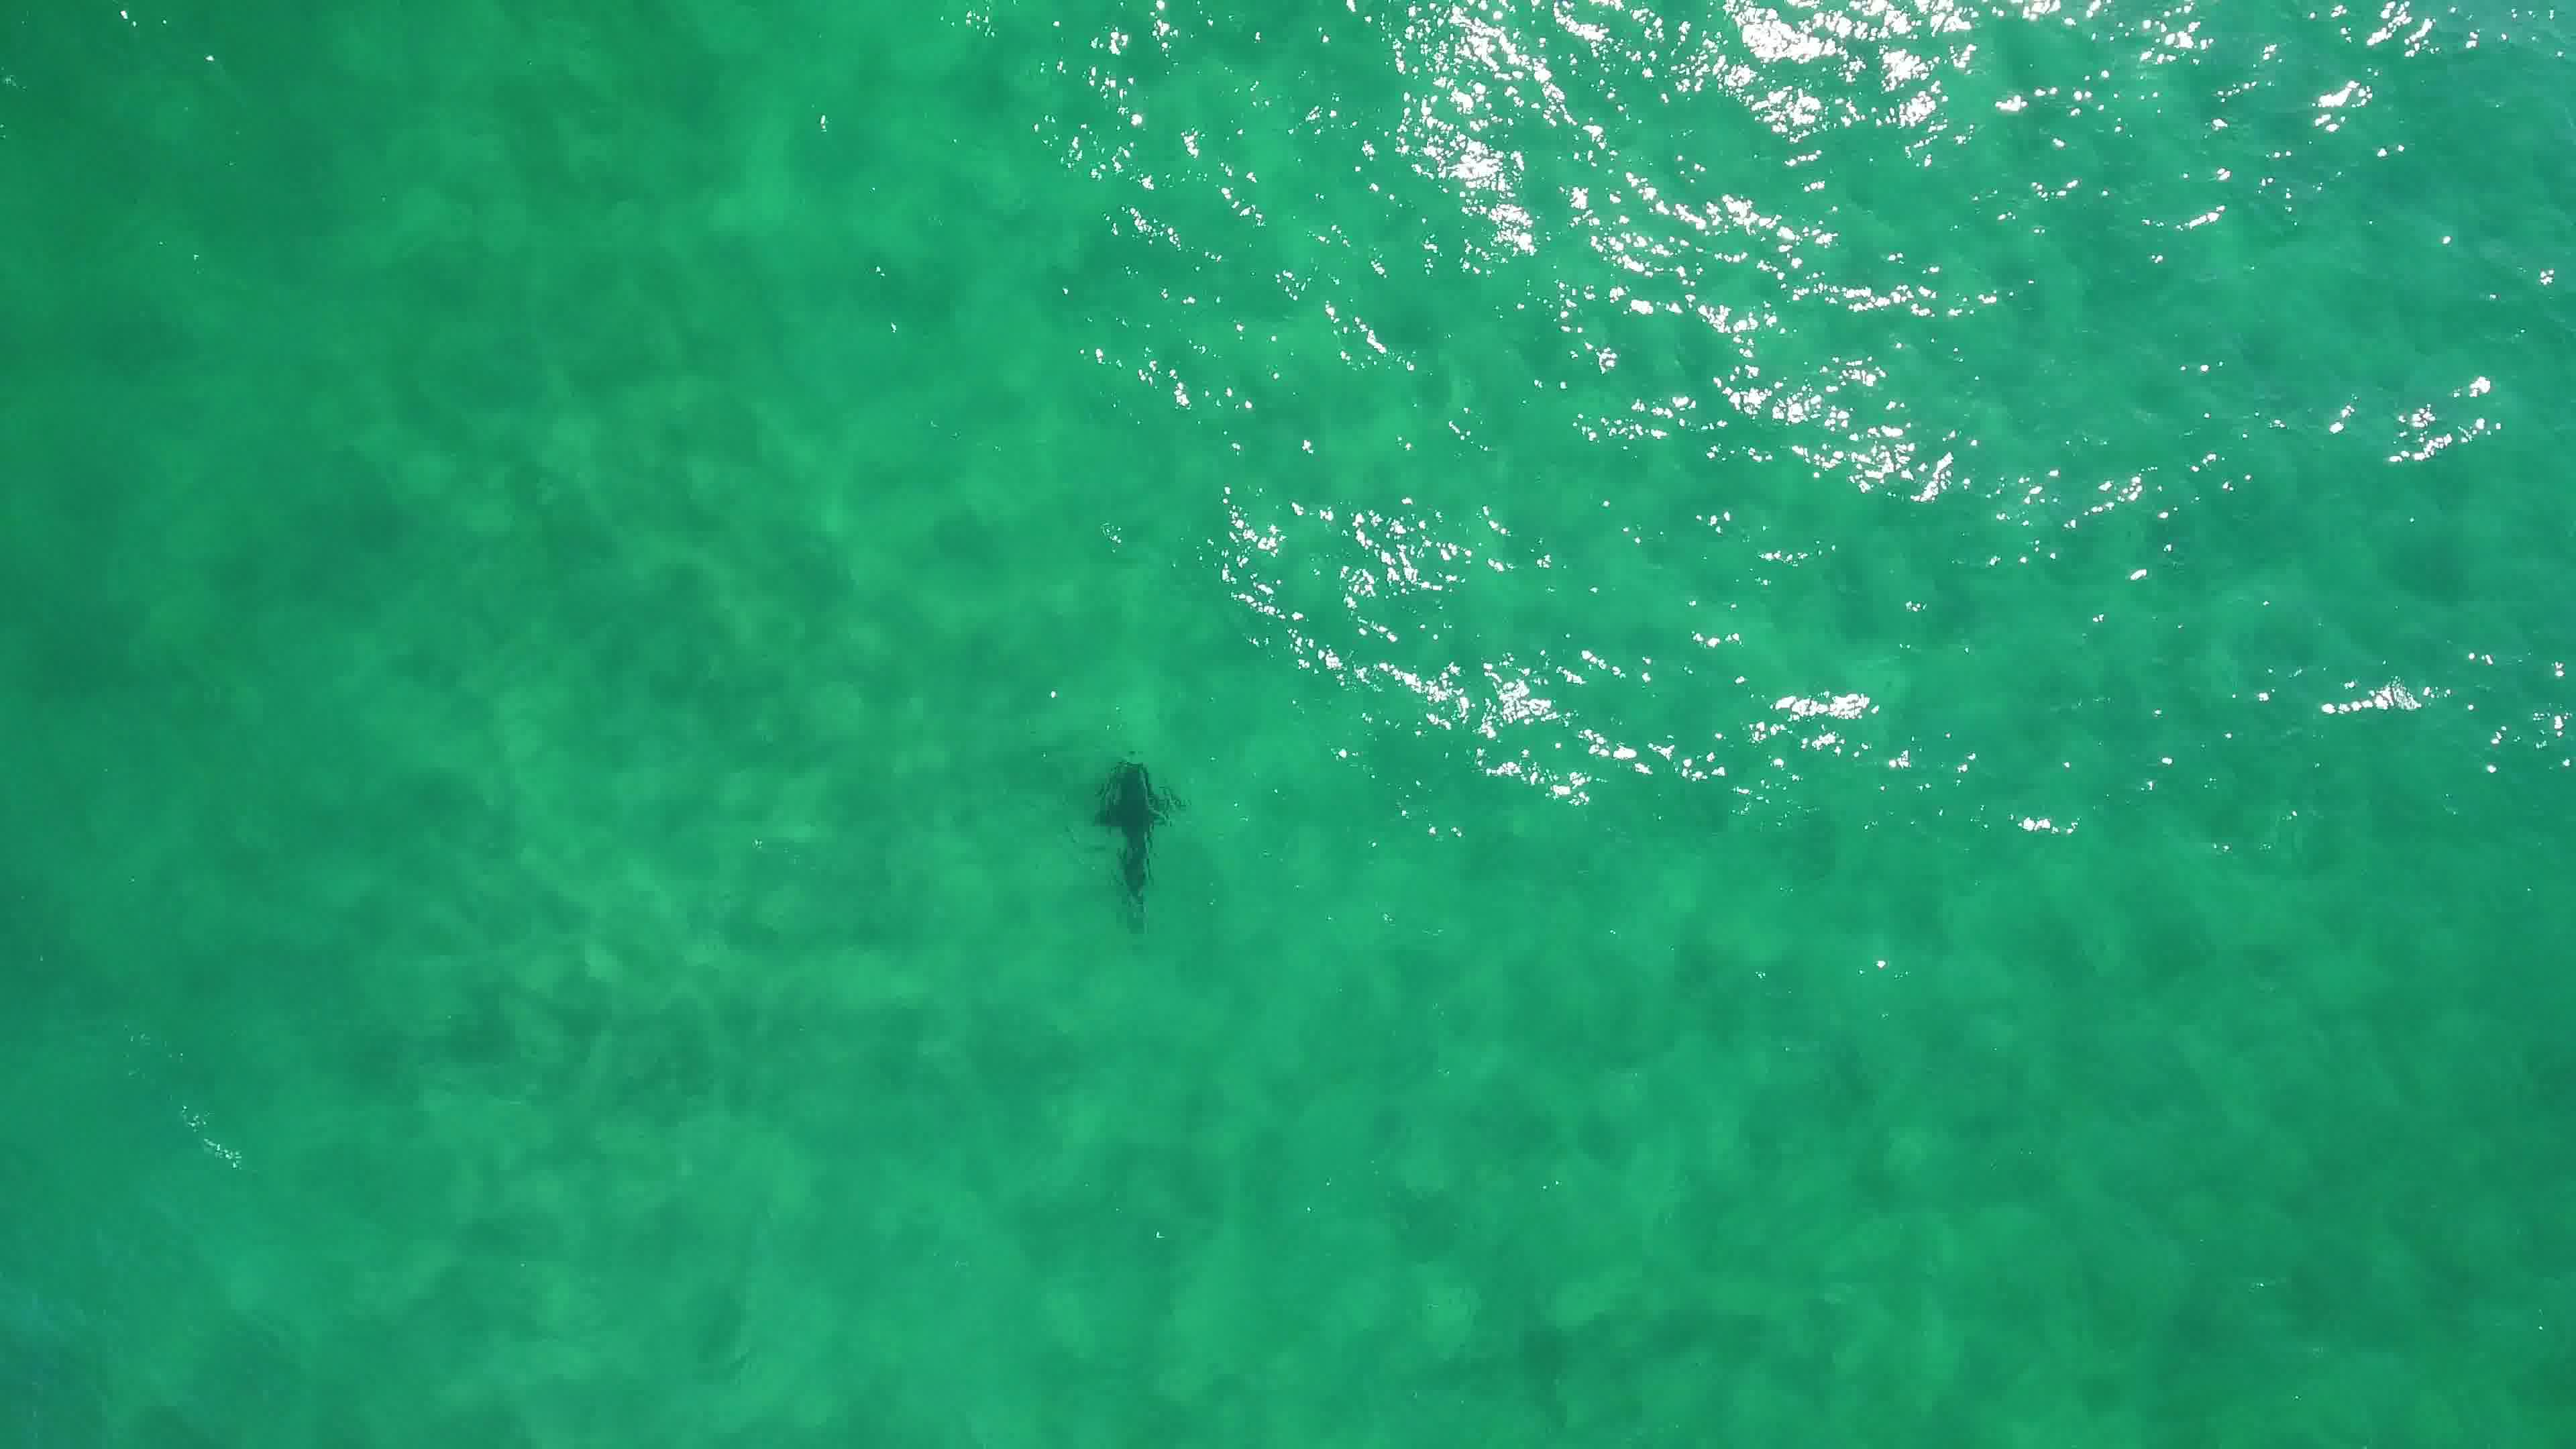shark: (1079, 754, 1184, 934)
